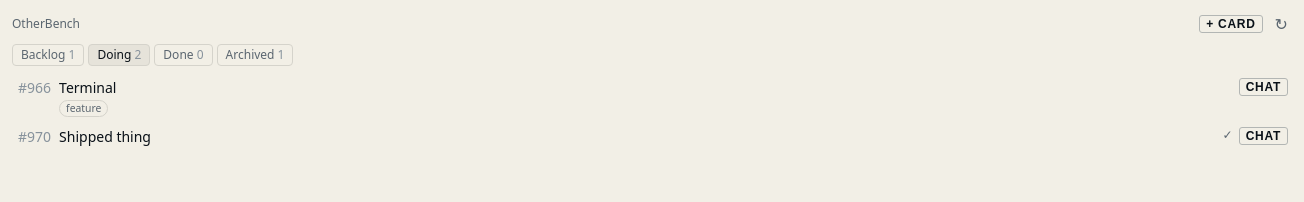
DeckTab › a card on another board says which board
Click the button with test id "card-row-966".
click(88, 88)  # box x1=12 y1=74 x2=1239 y2=121
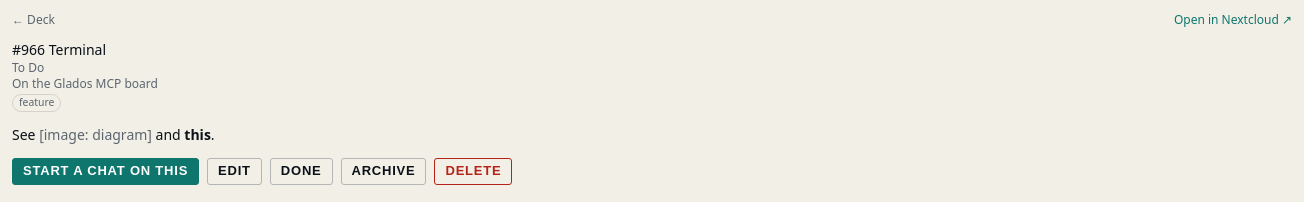
Result: the text "On the Glados MCP board" is shown at x1=12 y1=75 x2=158 y2=92
